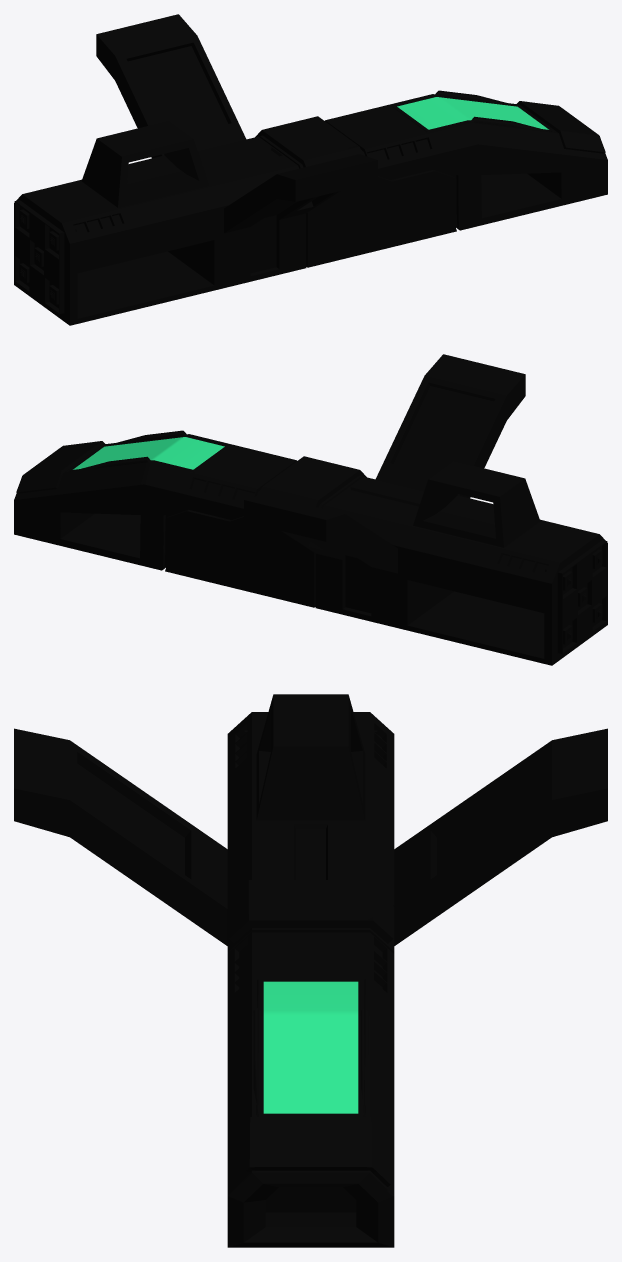
The picture shows the model from 3 angles, top to bottom: view 1: azimuth 30°, elevation 25°; view 2: azimuth 150°, elevation 25°; view 3: azimuth 270°, elevation 25°; orthographic projection. The views are drawn at different scales.
Visible parts, largest first — view 1: polySurface24 polySurface11 (×2), polySurface11 polySurface27; view 2: polySurface24 polySurface11 (×2), polySurface11 polySurface27; view 3: polySurface24 polySurface11 (×2).
Boxes of the visible parts, x1,y1,x2,y2 form: polySurface24 polySurface11 (×2): [14, 14, 607, 325]; polySurface11 polySurface27: [14, 200, 76, 314]; polySurface24 polySurface11 (×2): [14, 354, 607, 665]; polySurface11 polySurface27: [545, 540, 607, 654]; polySurface24 polySurface11 (×2): [14, 694, 607, 1247].
Size of the model in its own units: 19.29 by 5.41 by 12.16.
